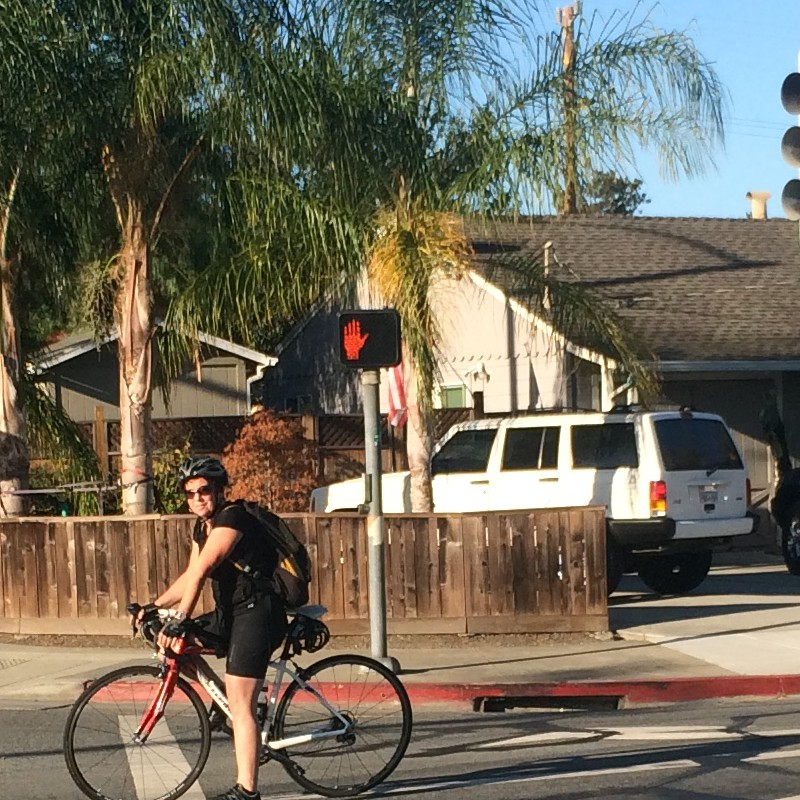stop: (339, 313, 405, 365)
